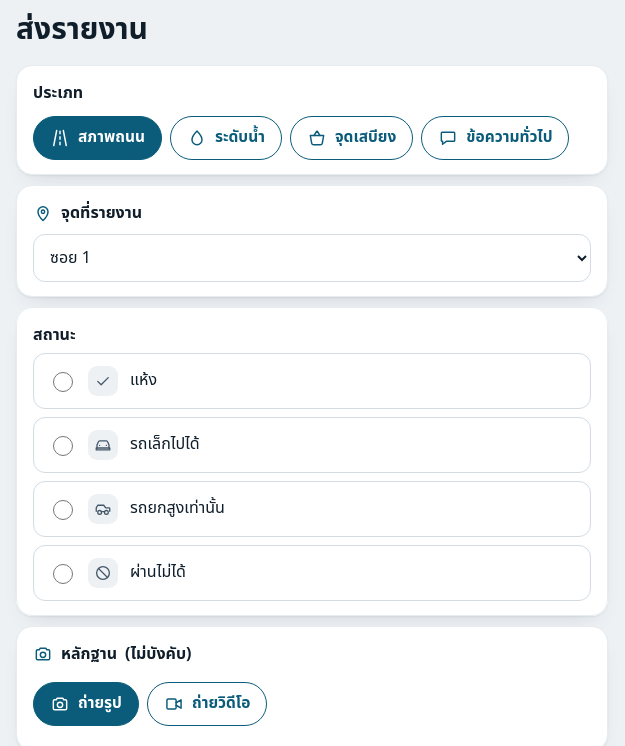
shows the failure reason when the item is in the failed list (matched by id)
What coordinates should you click on to do the following:
click the radio button labelled "ผ่านไม่ได้"
I would click on:
 (63, 574)
Its box is [53,564,73,584].
(page scrolled)
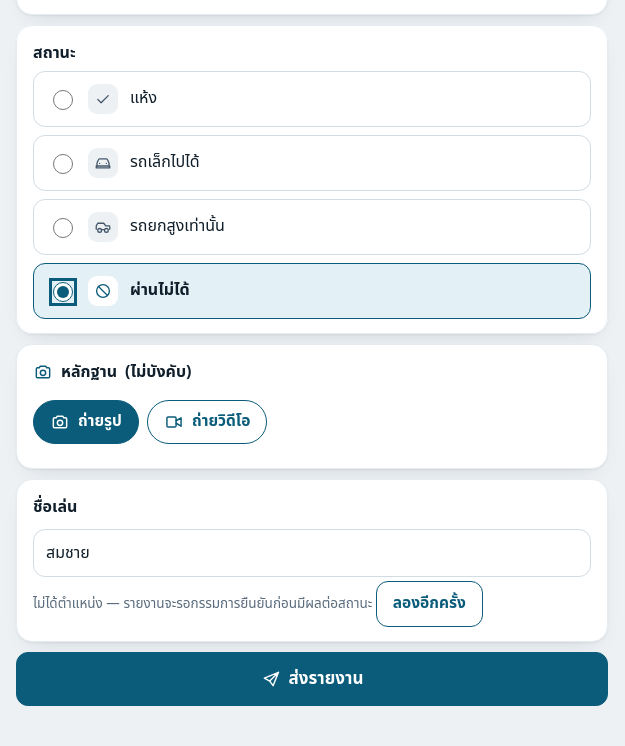
What coordinates should you click on to do the following:
click the button "ส่งรายงาน"
I would click on:
 (312, 679)
Its box is [16,652,608,706].
(page scrolled)
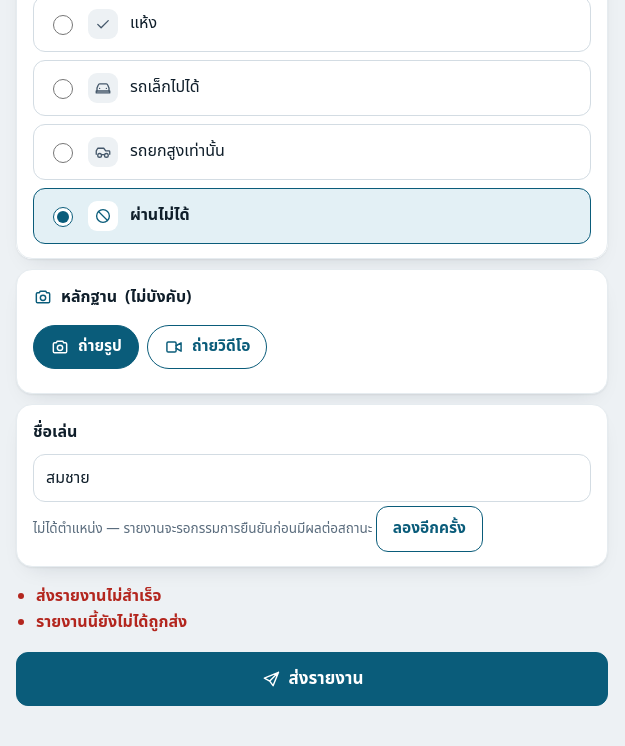
Now the list item "รายงานนี้ยังไม่ได้ถูกส่ง" is shown, box [36,610,187,634]
